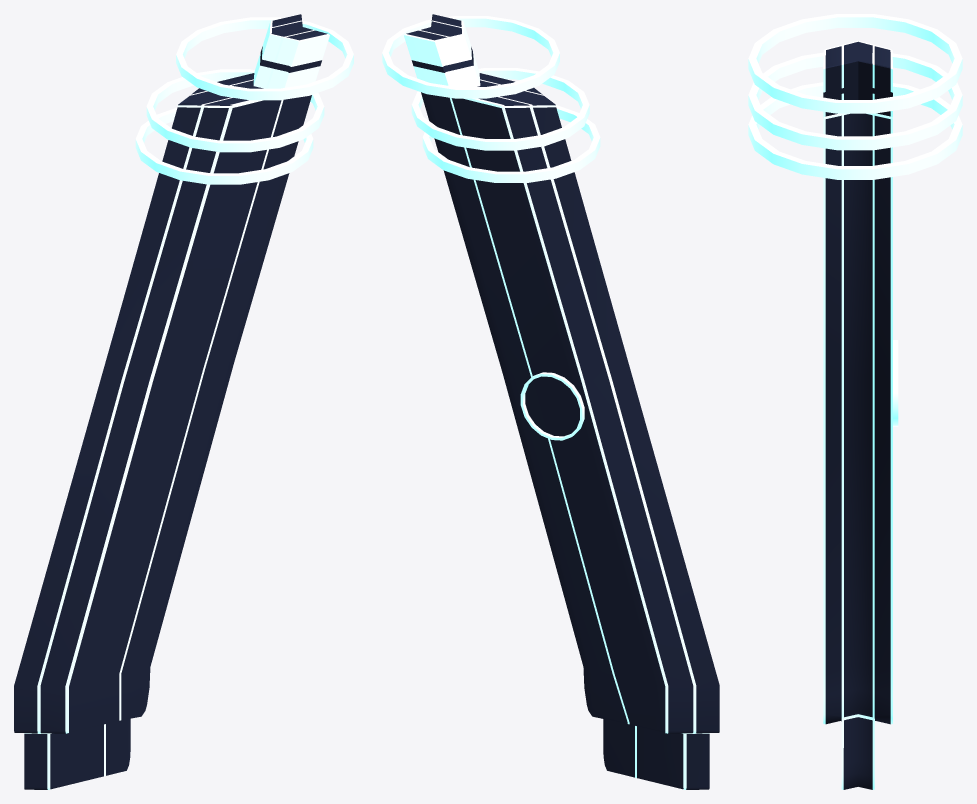
File: Tower_Lean_Thin.fbx
3 views of the same model, side by side, from view 1: azimuth 30°, elevation 25°; view 2: azimuth 150°, elevation 25°; view 3: azimuth 270°, elevation 25° (orthographic). The views are drawn at different scales.
Visible parts, largest first — view 1: Tower_Lean_Thin; view 2: Tower_Lean_Thin; view 3: Tower_Lean_Thin.
Part boxes in pixels (x1,y1,x2,y2): Tower_Lean_Thin: [14, 14, 353, 789]; Tower_Lean_Thin: [382, 14, 719, 789]; Tower_Lean_Thin: [748, 14, 962, 789].
Bounding box in the file's own units: 663 × 1352 × 313.
